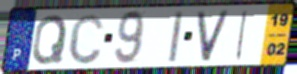9: (112, 9, 146, 68)
C: (66, 12, 106, 66)
I: (166, 10, 185, 64), (233, 9, 250, 62)
Q: (30, 13, 69, 67)
V: (195, 9, 231, 63)
